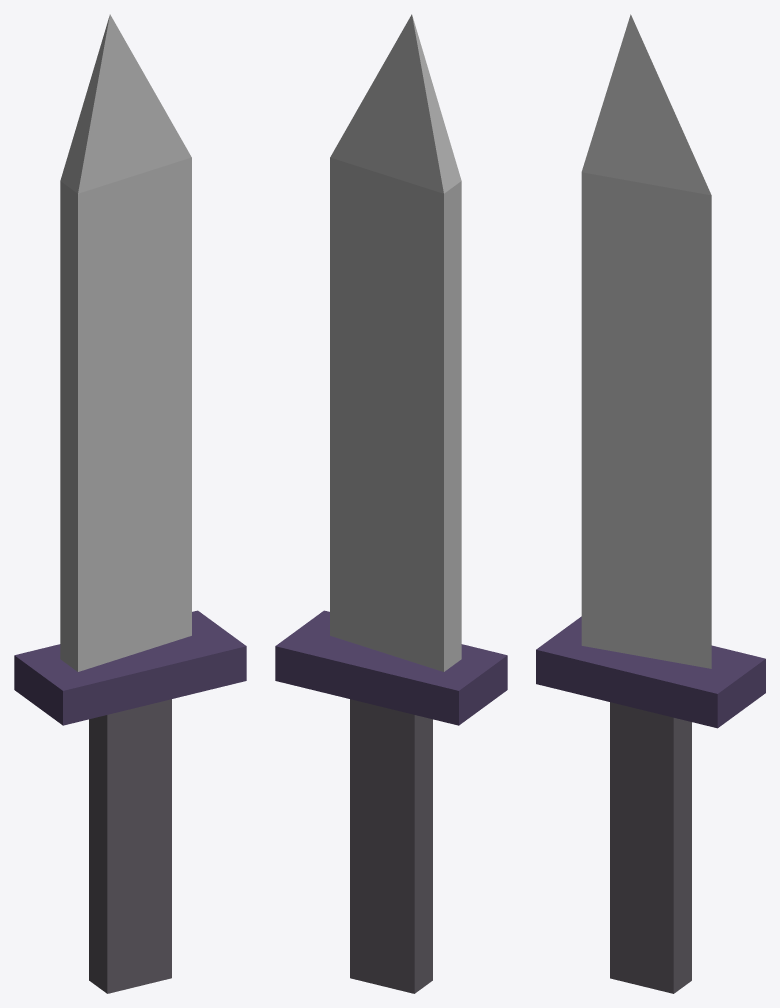
The model's file is FirstLowPolyBlade.fbx.
The picture shows the model from 3 angles, left to right: view 1: azimuth 30°, elevation 25°; view 2: azimuth 150°, elevation 25°; view 3: azimuth 330°, elevation 25°; orthographic projection.
Visible parts, largest first — view 1: Cube; view 2: Cube; view 3: Cube.
Part boxes in pixels (<box>): Cube: <box>14,14,246,993</box>; Cube: <box>275,14,507,993</box>; Cube: <box>536,14,765,993</box>.
Bounding box in the file's own units: 34.64 × 175 × 15.93.
